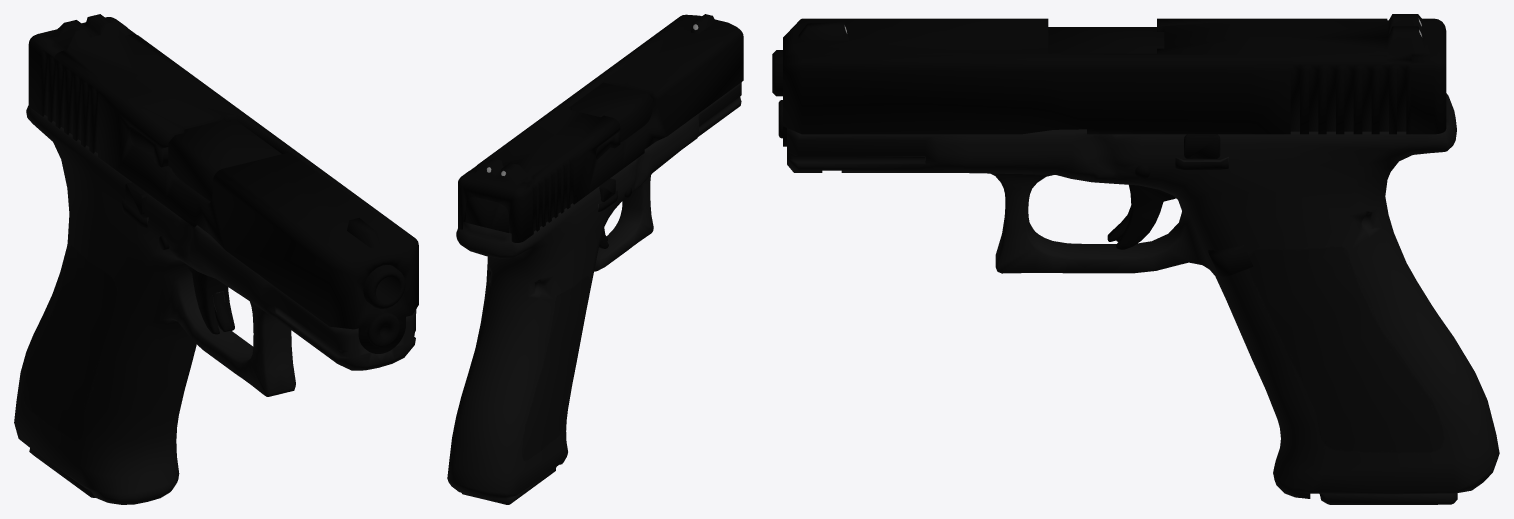
Rendered from Glock-19.fbx.
The picture shows the model from 3 angles, left to right: view 1: azimuth 30°, elevation 25°; view 2: azimuth 150°, elevation 25°; view 3: azimuth 270°, elevation 25°; orthographic projection. The views are drawn at different scales.
Parts seen in each view (by area): view 1: Grip_low_0, Top_low_0, TopInner_low_0, Barrel_low_0, Triggermain_low_0, TopInnerButton_0, Triggersmall_low_0; view 2: Grip_low_0, Top_low_0, TopInner_low_0, Top_Back_low_0, Magzine_low_0; view 3: Grip_low_0, Top_low_0, TopInner_low_0, Triggermain_low_0, Magzine_low_0, MagButton_0.
Part boxes in pixels (x1,y1,x2,y2): Grip_low_0: (14,105,416,504); Top_low_0: (28,14,418,353); TopInner_low_0: (168,120,281,201); Barrel_low_0: (363,265,405,308); Triggermain_low_0: (185,264,234,334); TopInnerButton_0: (130,127,168,167); Triggersmall_low_0: (212,291,233,331); Grip_low_0: (447,82,741,499); Top_low_0: (458,14,743,242); TopInner_low_0: (570,82,652,142); Top_Back_low_0: (466,197,508,232); Magzine_low_0: (462,467,556,504); Grip_low_0: (787,93,1499,498); Top_low_0: (778,14,1446,146); TopInner_low_0: (1048,27,1164,53); Triggermain_low_0: (1116,185,1175,249); Magzine_low_0: (1319,493,1457,504); MagButton_0: (1208,245,1253,276).
Bounding box in the file's own units: 0.1361 × 0.5499 × 0.7801.
Materials: 2 (2 with a texture image).
